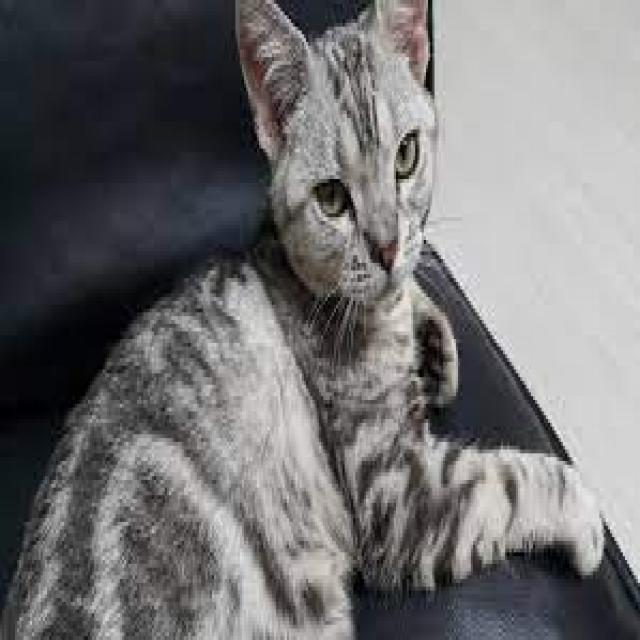cat-face: (225, 0, 491, 336)
